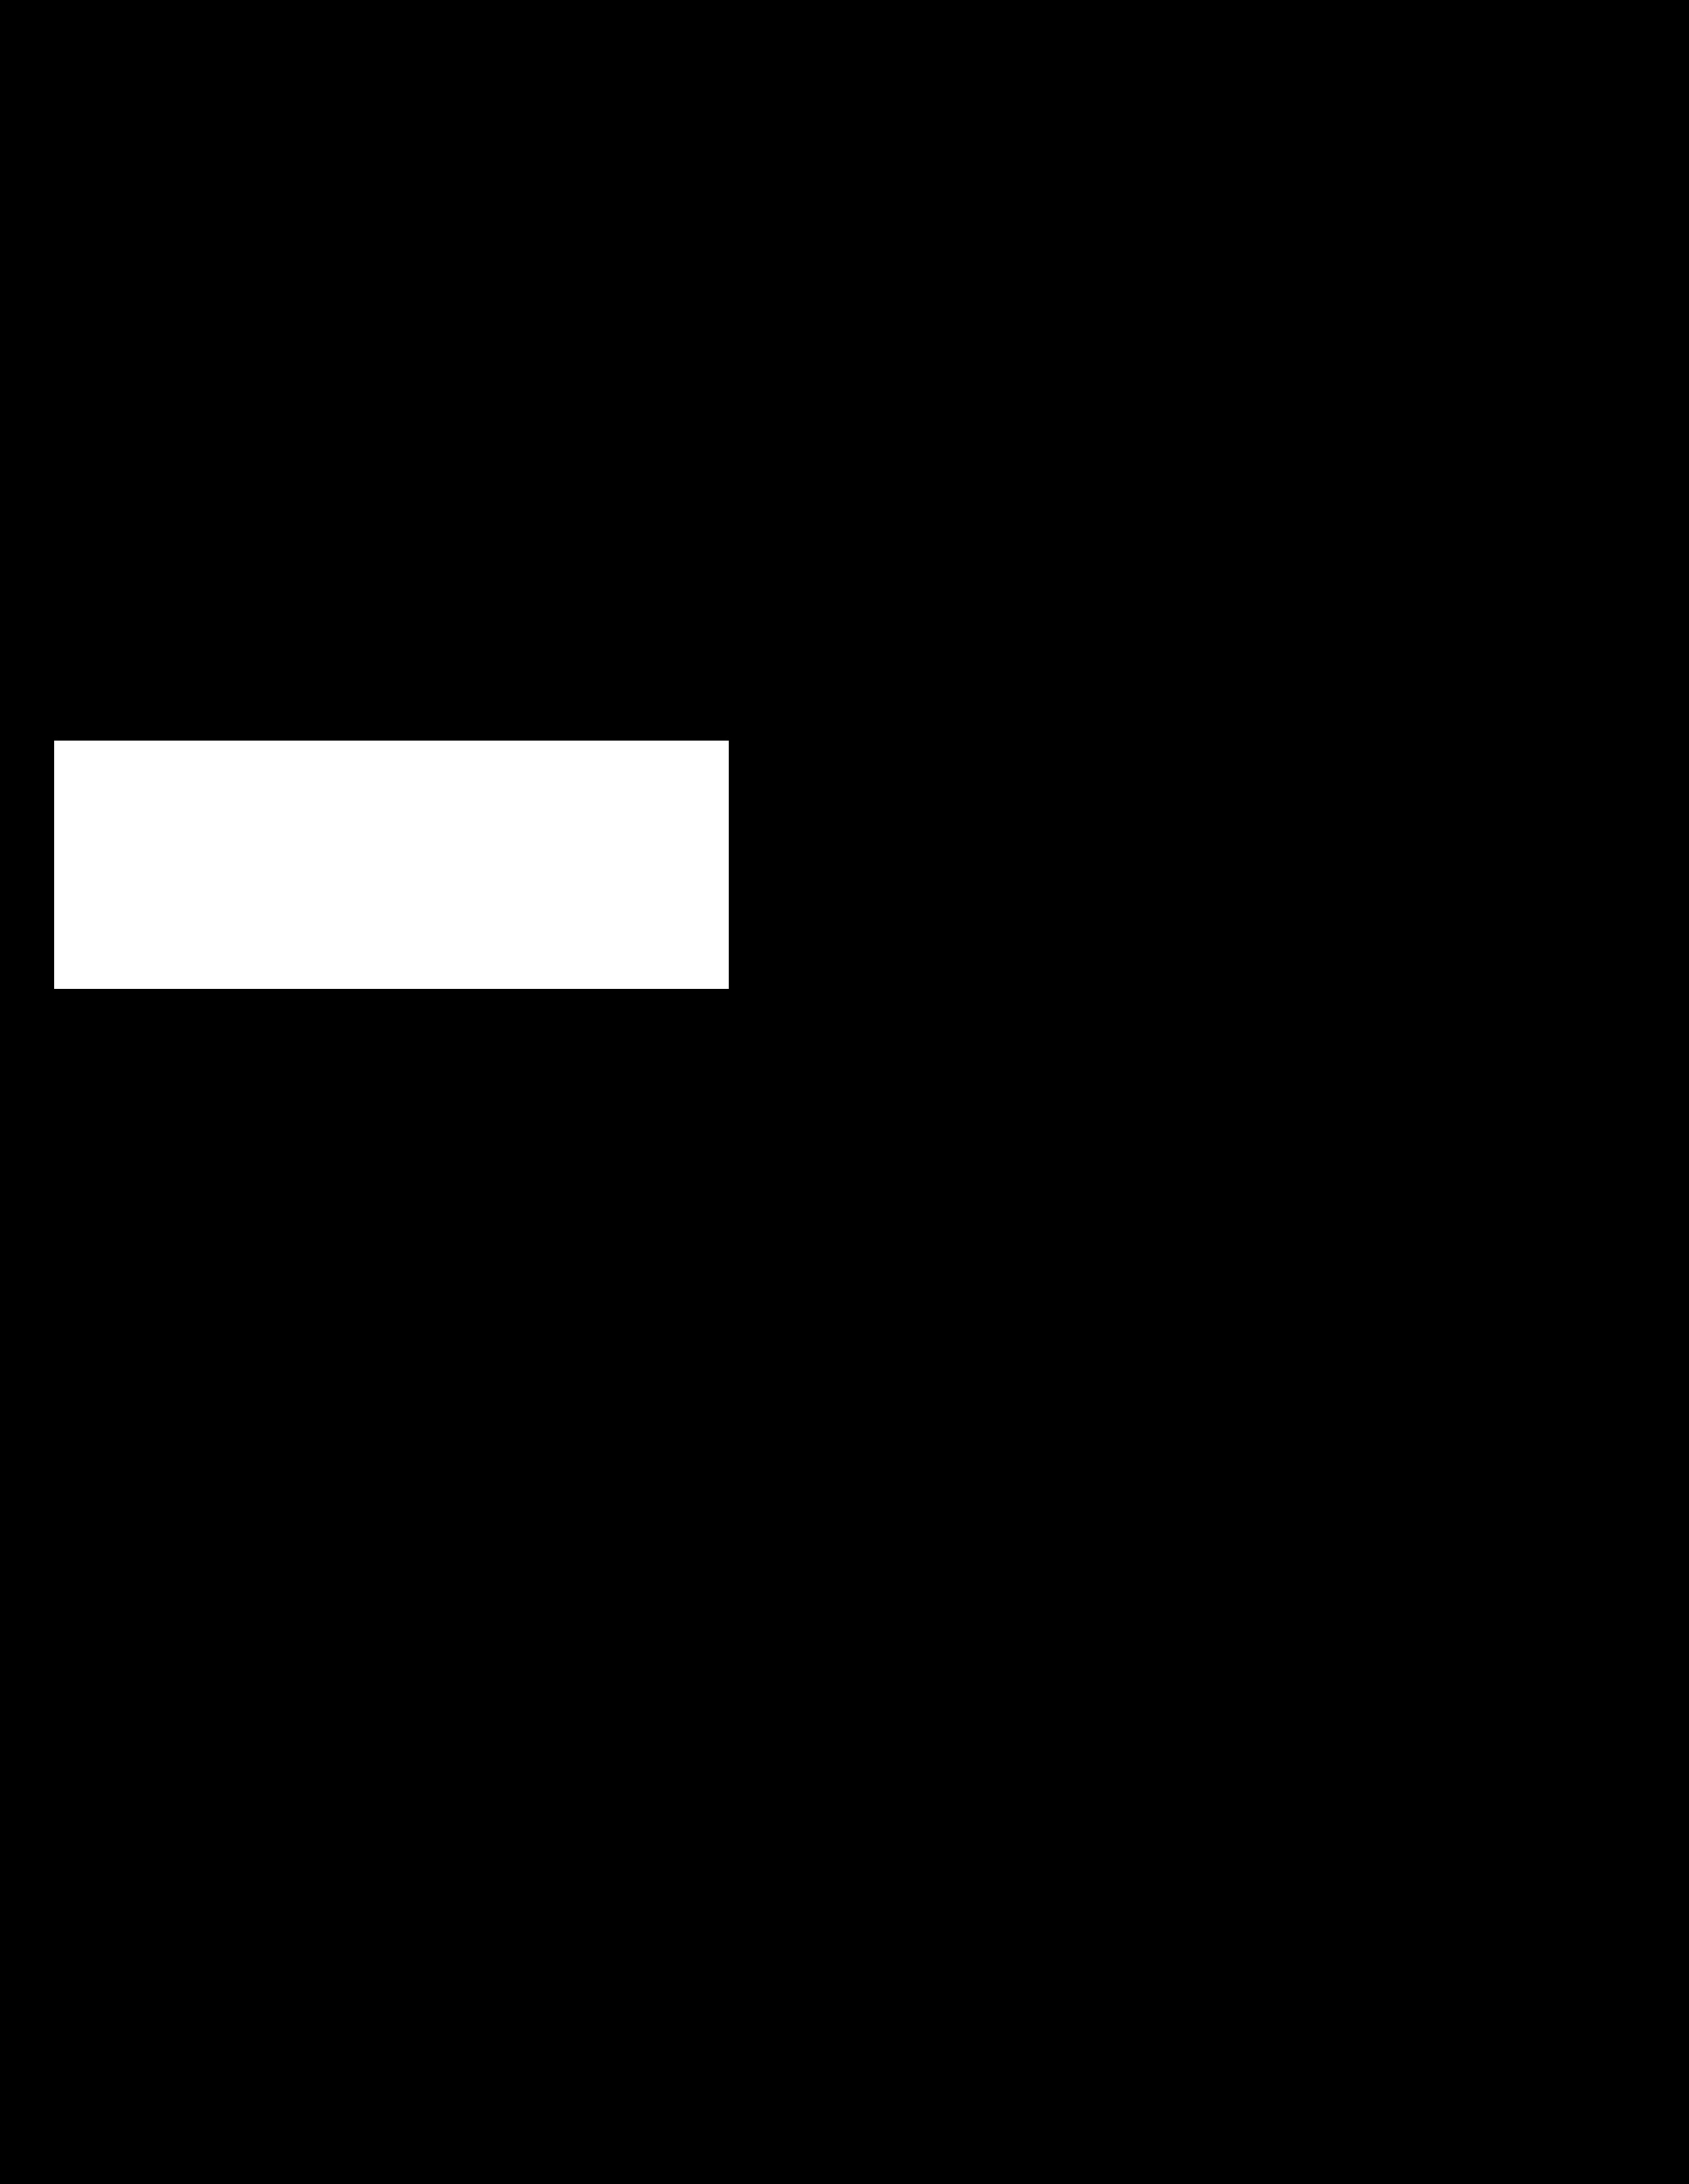table: (55, 741, 728, 987)
